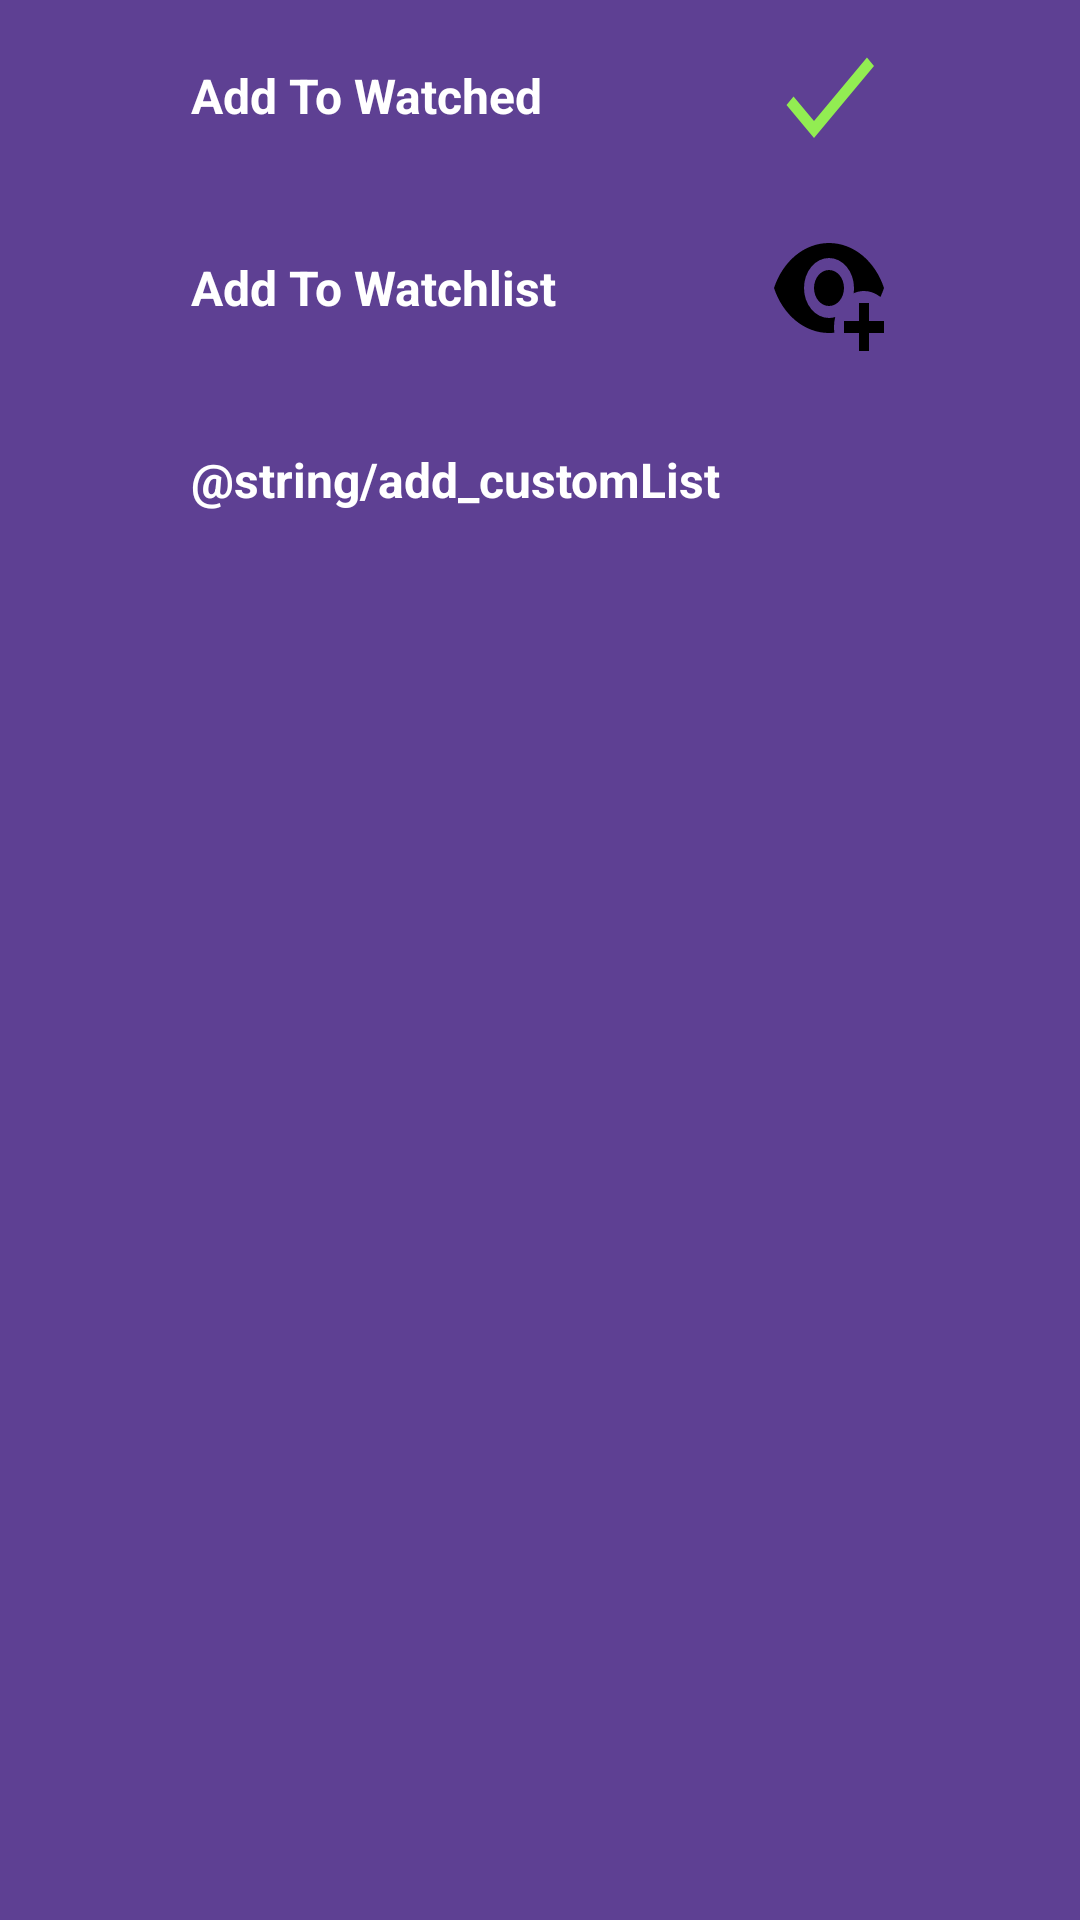

Locate icon controls on the screen. Image size 1080px x 1920px, boxes as rect(x1, y1, x2, y2).
check: rect(786, 58, 874, 138)
eye plus: rect(774, 243, 884, 351)
